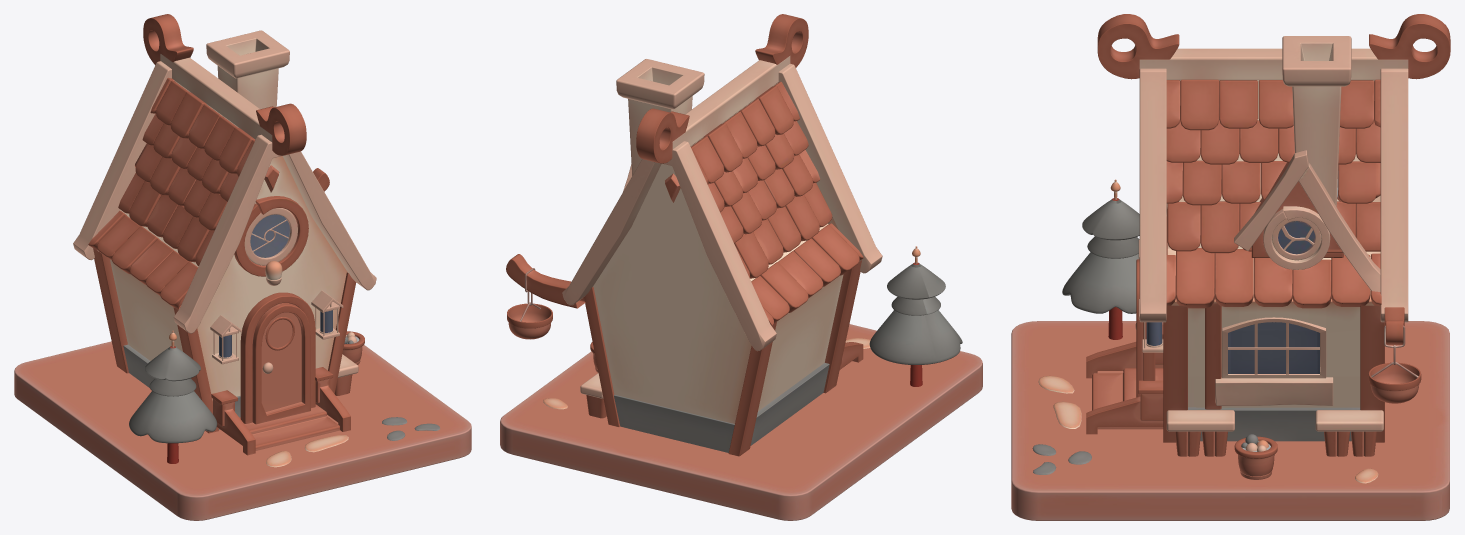
The model's file is house.glb.
3 views of the same model, side by side, from view 1: azimuth 30°, elevation 25°; view 2: azimuth 150°, elevation 25°; view 3: azimuth 270°, elevation 25° (orthographic). The views are drawn at different scales.
Parts seen in each view (by area): view 1: Styilized house 02; view 2: Styilized house 02; view 3: Styilized house 02.
Boxes of the visible parts, x1,y1,x2,y2 form: Styilized house 02: [14, 14, 471, 520]; Styilized house 02: [500, 14, 982, 520]; Styilized house 02: [1011, 14, 1450, 520].
Size of the model in its own units: 5.15 by 5.54 by 5.29.
Materials: 1 (1 with a texture image).
